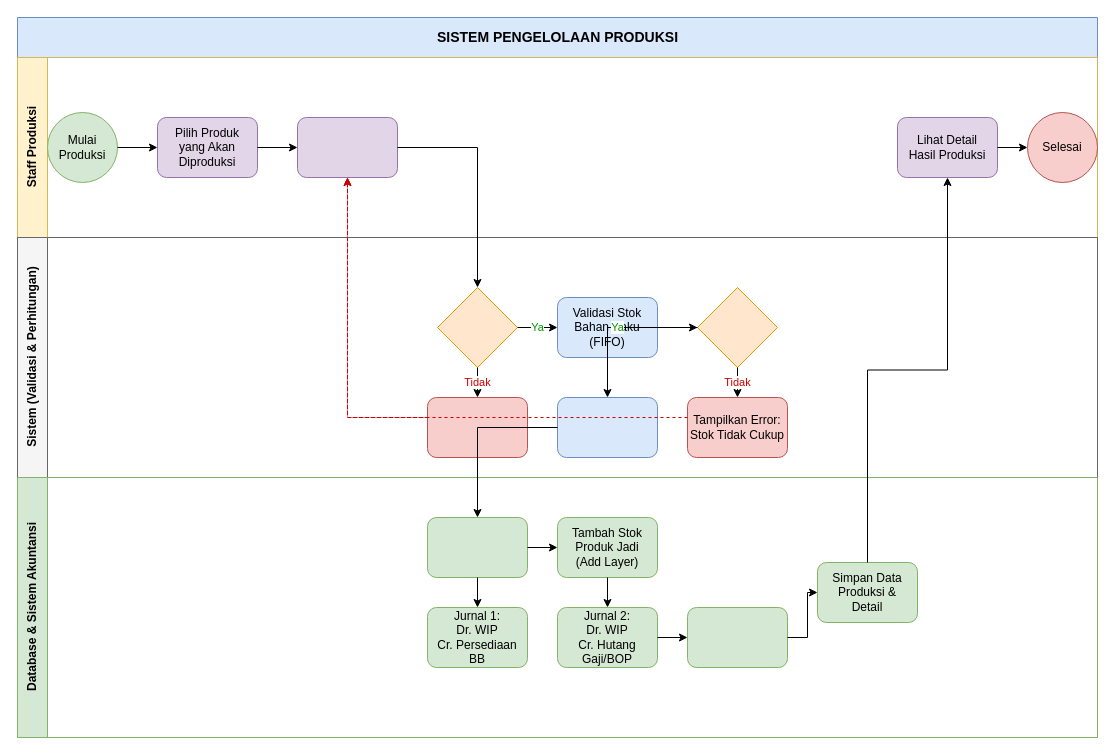
Some shapes in this 1115 by 755 pixel diagram are drawn without their labels. The shapes that lost their labels are listed below. From the top down, each one's centre as x and y in pixels, then its label:
point (347, 147): Input Data: - Tanggal - Qty Produksi
point (477, 327): BOM Tersedia?
point (737, 327): Stok Cukup?
point (477, 427): Tampilkan Error: BOM Belum Ada
point (607, 427): Hitung Biaya: - Bahan Baku - BTKL (60%) - BOP (40%)
point (477, 547): Kurangi Stok Bahan Baku (FIFO Consume)
point (737, 637): Jurnal 3: Dr. Persediaan BJ Cr. WIP
